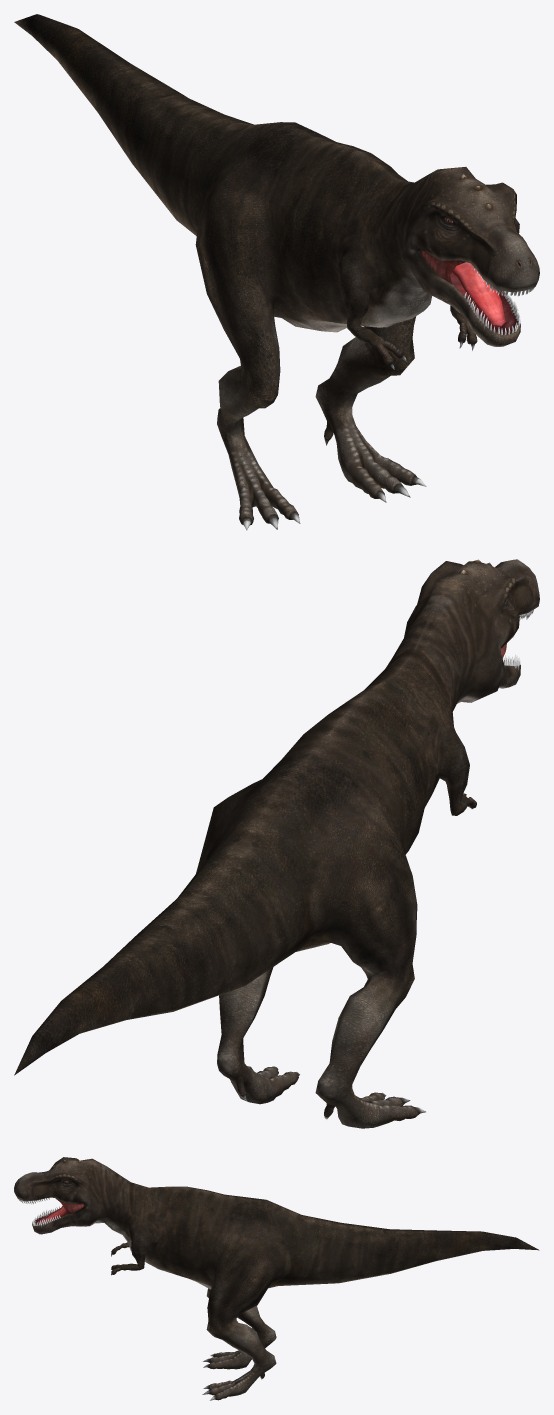
File: T-rex.obj
3 renders of one model, top to bottom at view 1: azimuth 30°, elevation 25°; view 2: azimuth 150°, elevation 25°; view 3: azimuth 270°, elevation 25°, orthographic. The views are drawn at different scales.
Parts seen in each view (by area): view 1: polySurface164; view 2: polySurface164; view 3: polySurface164.
Boxes of the visible parts, box(x1,y1,x2,y2) form: polySurface164: box(14, 14, 539, 530); polySurface164: box(14, 559, 539, 1128); polySurface164: box(14, 1157, 539, 1400).
Bounding box in the file's own units: 9.22 × 20.47 × 44.49.
Materials: 1 (1 with a texture image).
